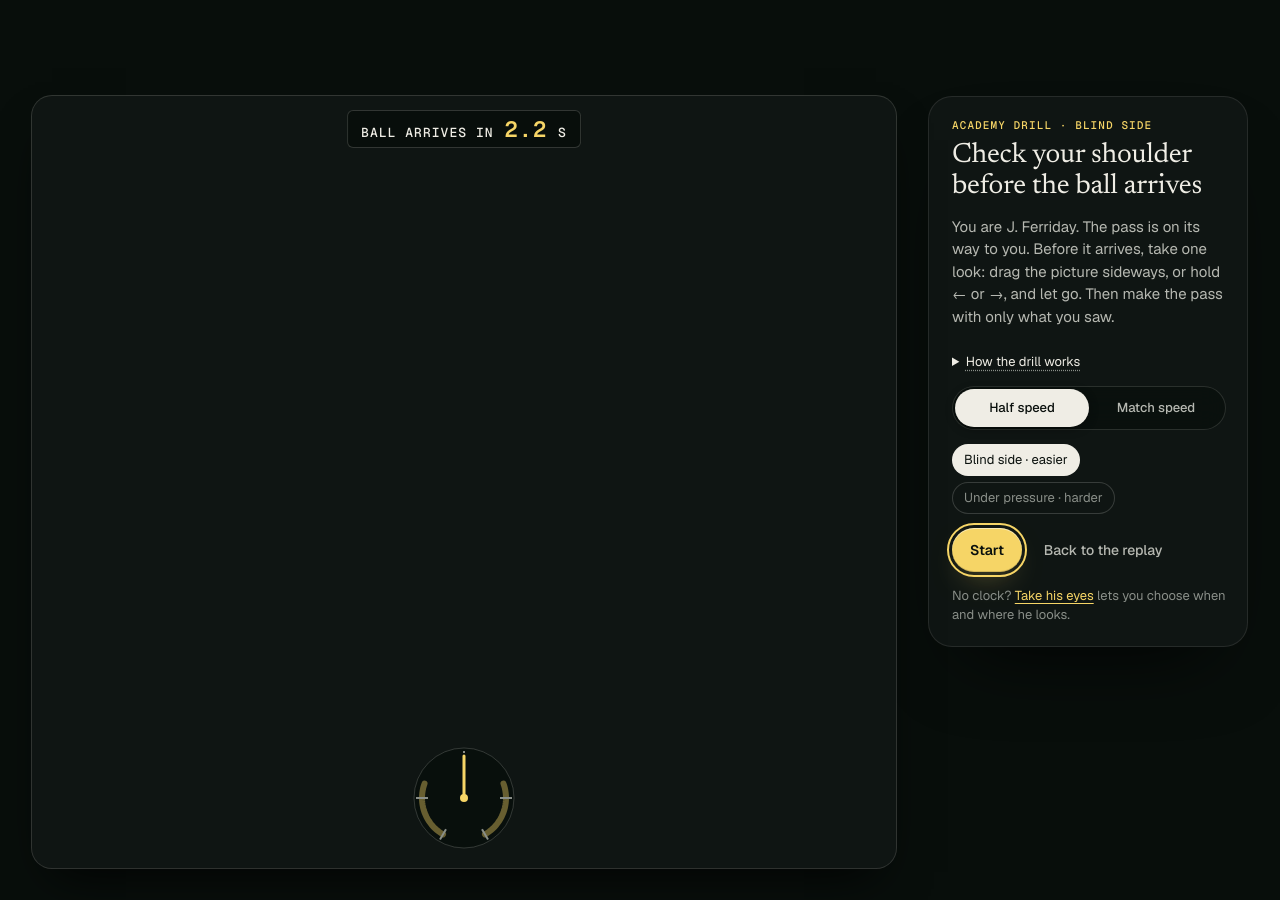
Scenario: Academy drill: ready › briefs the viewer, shows the moment's time to the reception and his head as a slider
Click the button with class "dr-level" showing "Under pressure · harder". click: (1033, 498)
box: [952,482,1115,514]
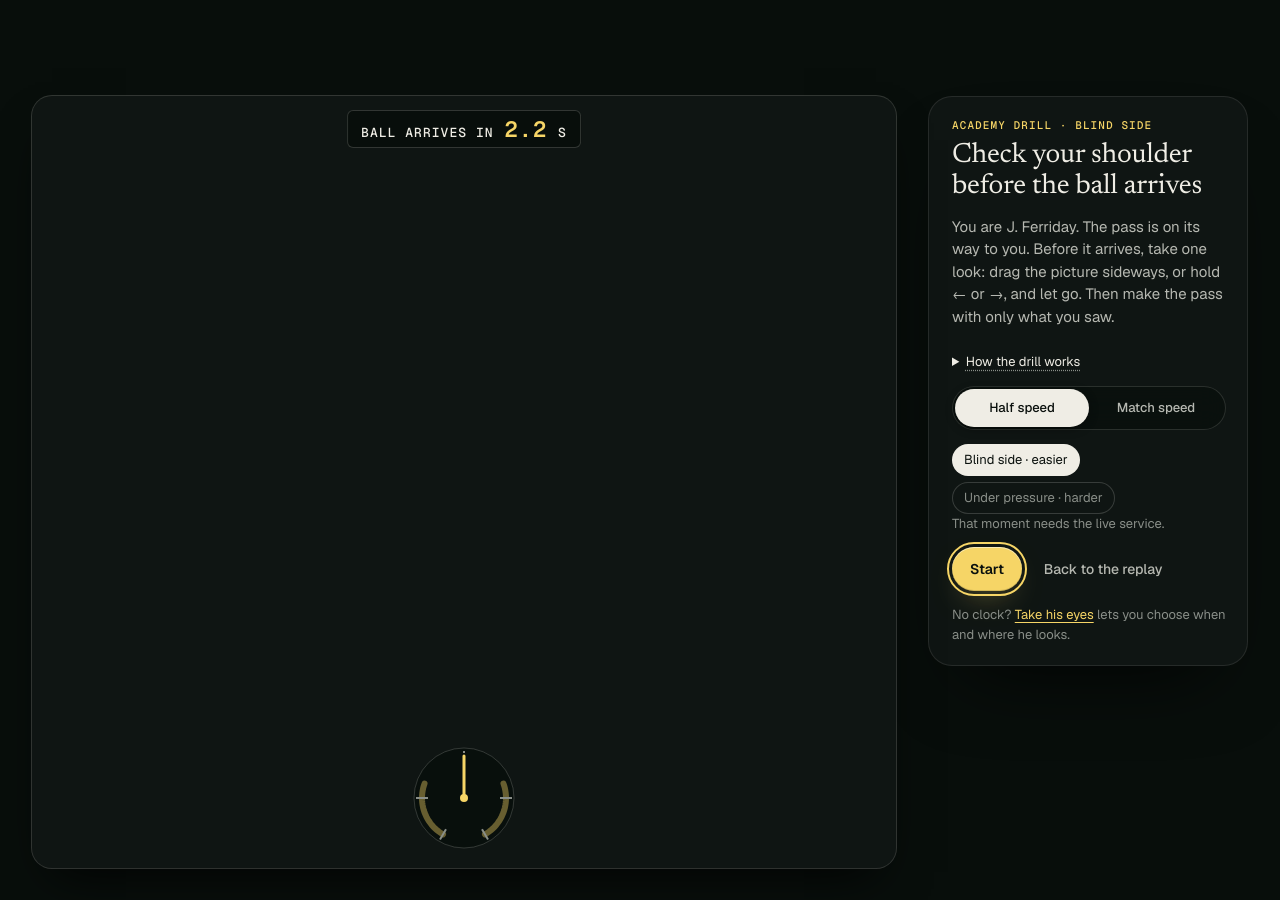
Now the text with class "dr-hint" reads "That moment needs the live service.", box [952,515,1164,532]
